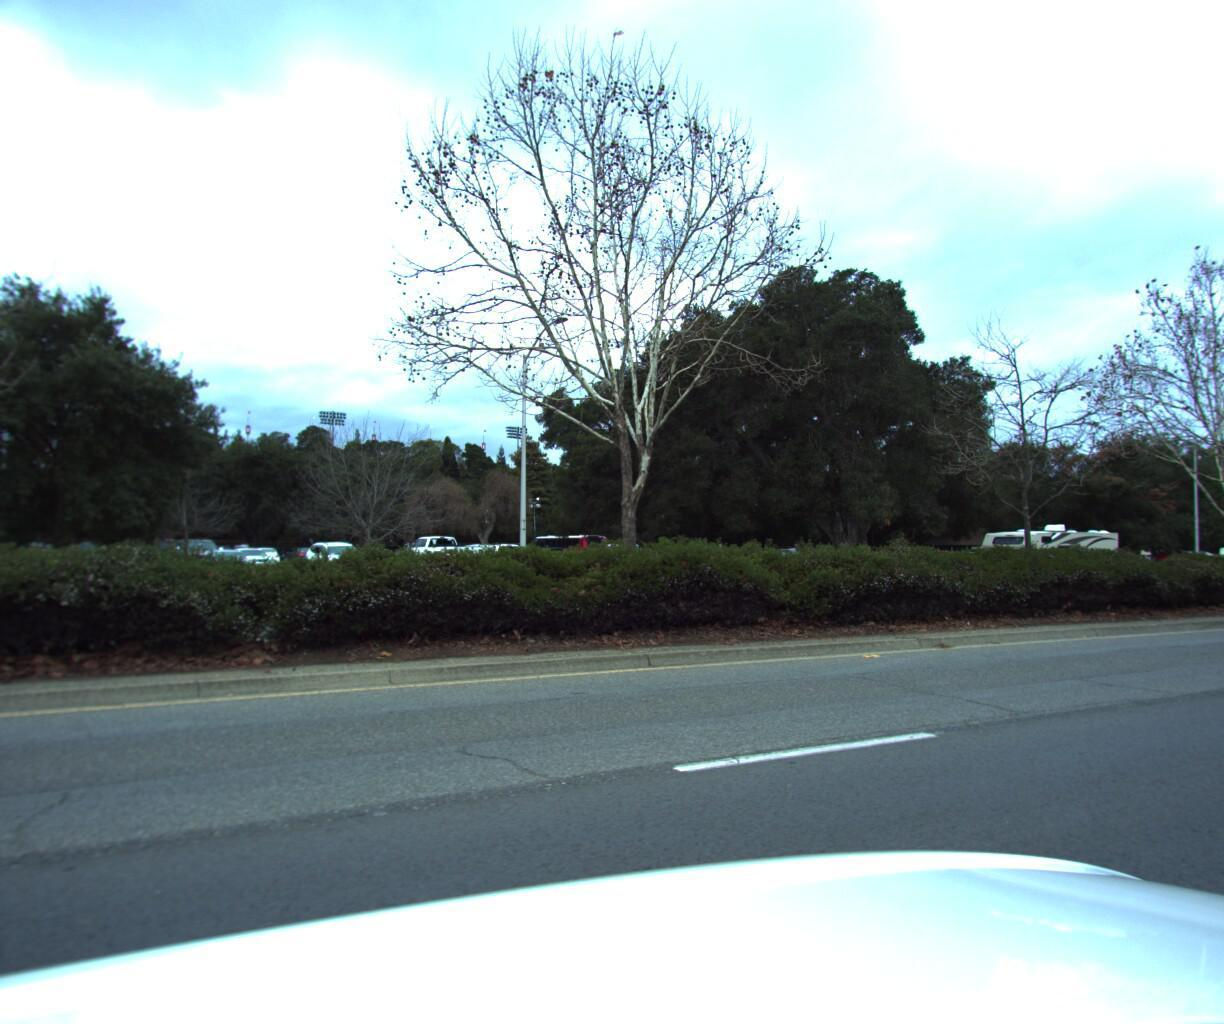car: (364, 548, 519, 597)
other_vehicle: (970, 516, 1121, 593), (1190, 534, 1224, 582)
